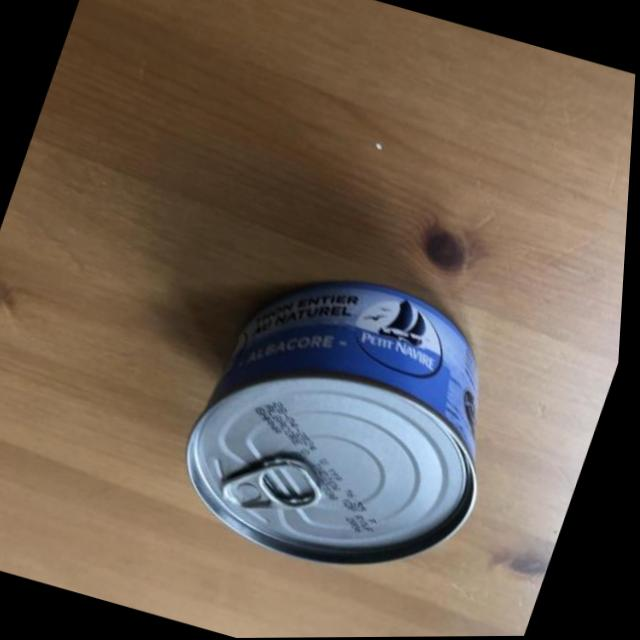metal: (187, 260, 531, 562)
